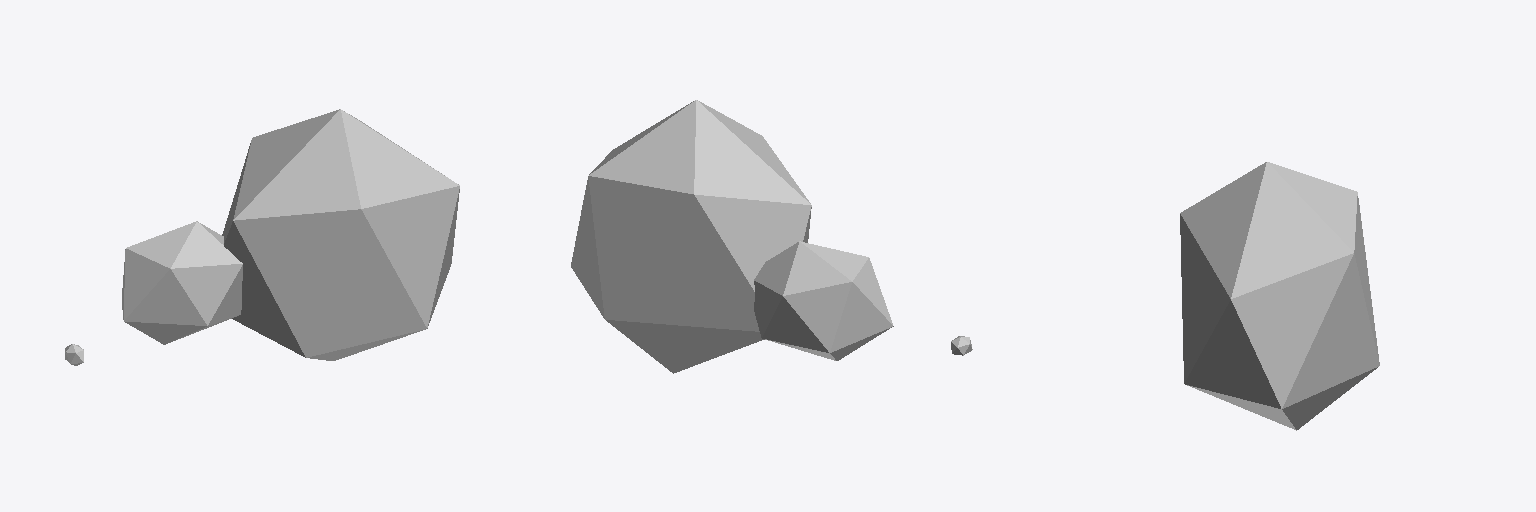
The model's file is cloud1.obj.
The picture shows the model from 3 angles: view 1: azimuth 30°, elevation 25°; view 2: azimuth 150°, elevation 25°; view 3: azimuth 270°, elevation 25°; orthographic projection.
Parts seen in each view (by area): view 1: Icosphere.003_Icosphere.022; view 2: Icosphere.003_Icosphere.022; view 3: Icosphere.003_Icosphere.022.
Boxes of the visible parts, <box> form: Icosphere.003_Icosphere.022: <box>65,109,459,365</box>; Icosphere.003_Icosphere.022: <box>571,100,972,373</box>; Icosphere.003_Icosphere.022: <box>1180,162,1379,430</box>.
Size of the model in its own units: 4.9 by 3.16 by 2.16.